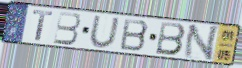B: (154, 21, 187, 58), (118, 17, 151, 53), (52, 10, 82, 46)
N: (181, 24, 222, 62)
T: (32, 9, 54, 42)
U: (88, 15, 121, 50)
